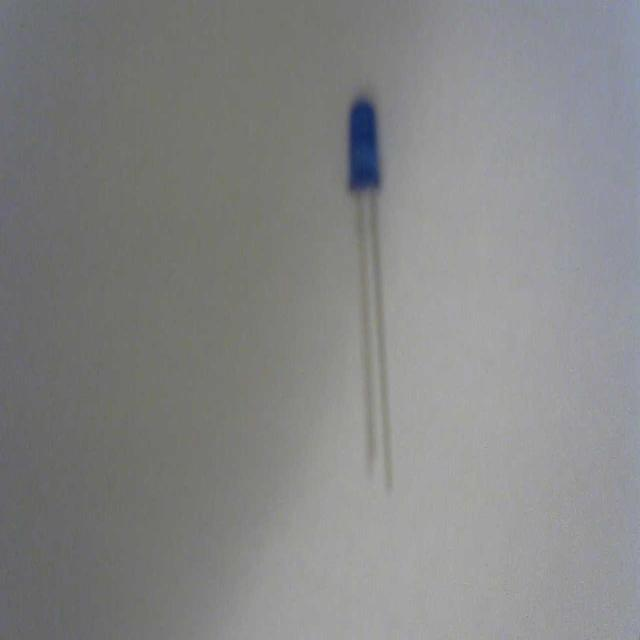blue_led: (348, 97, 381, 192)
